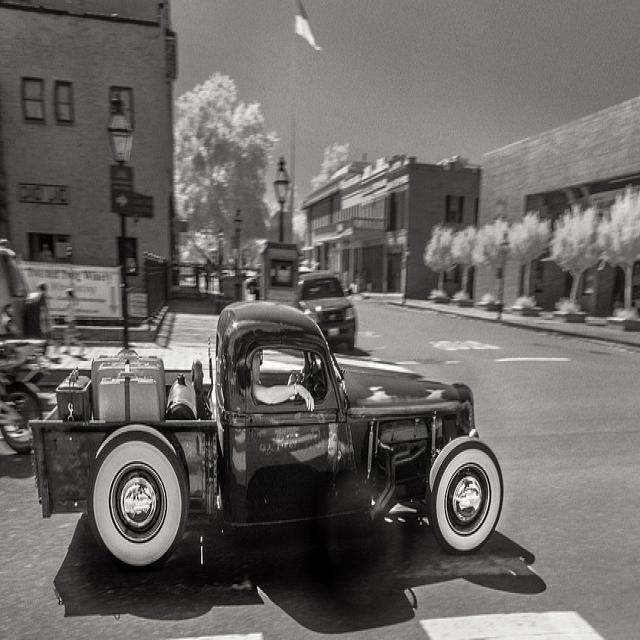motor: (0, 362, 54, 455)
